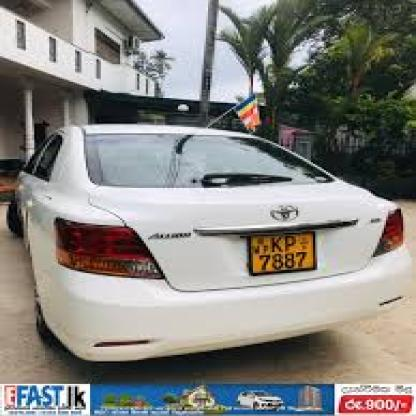car back: (0, 118, 416, 372)
number plate: (245, 228, 308, 274)
